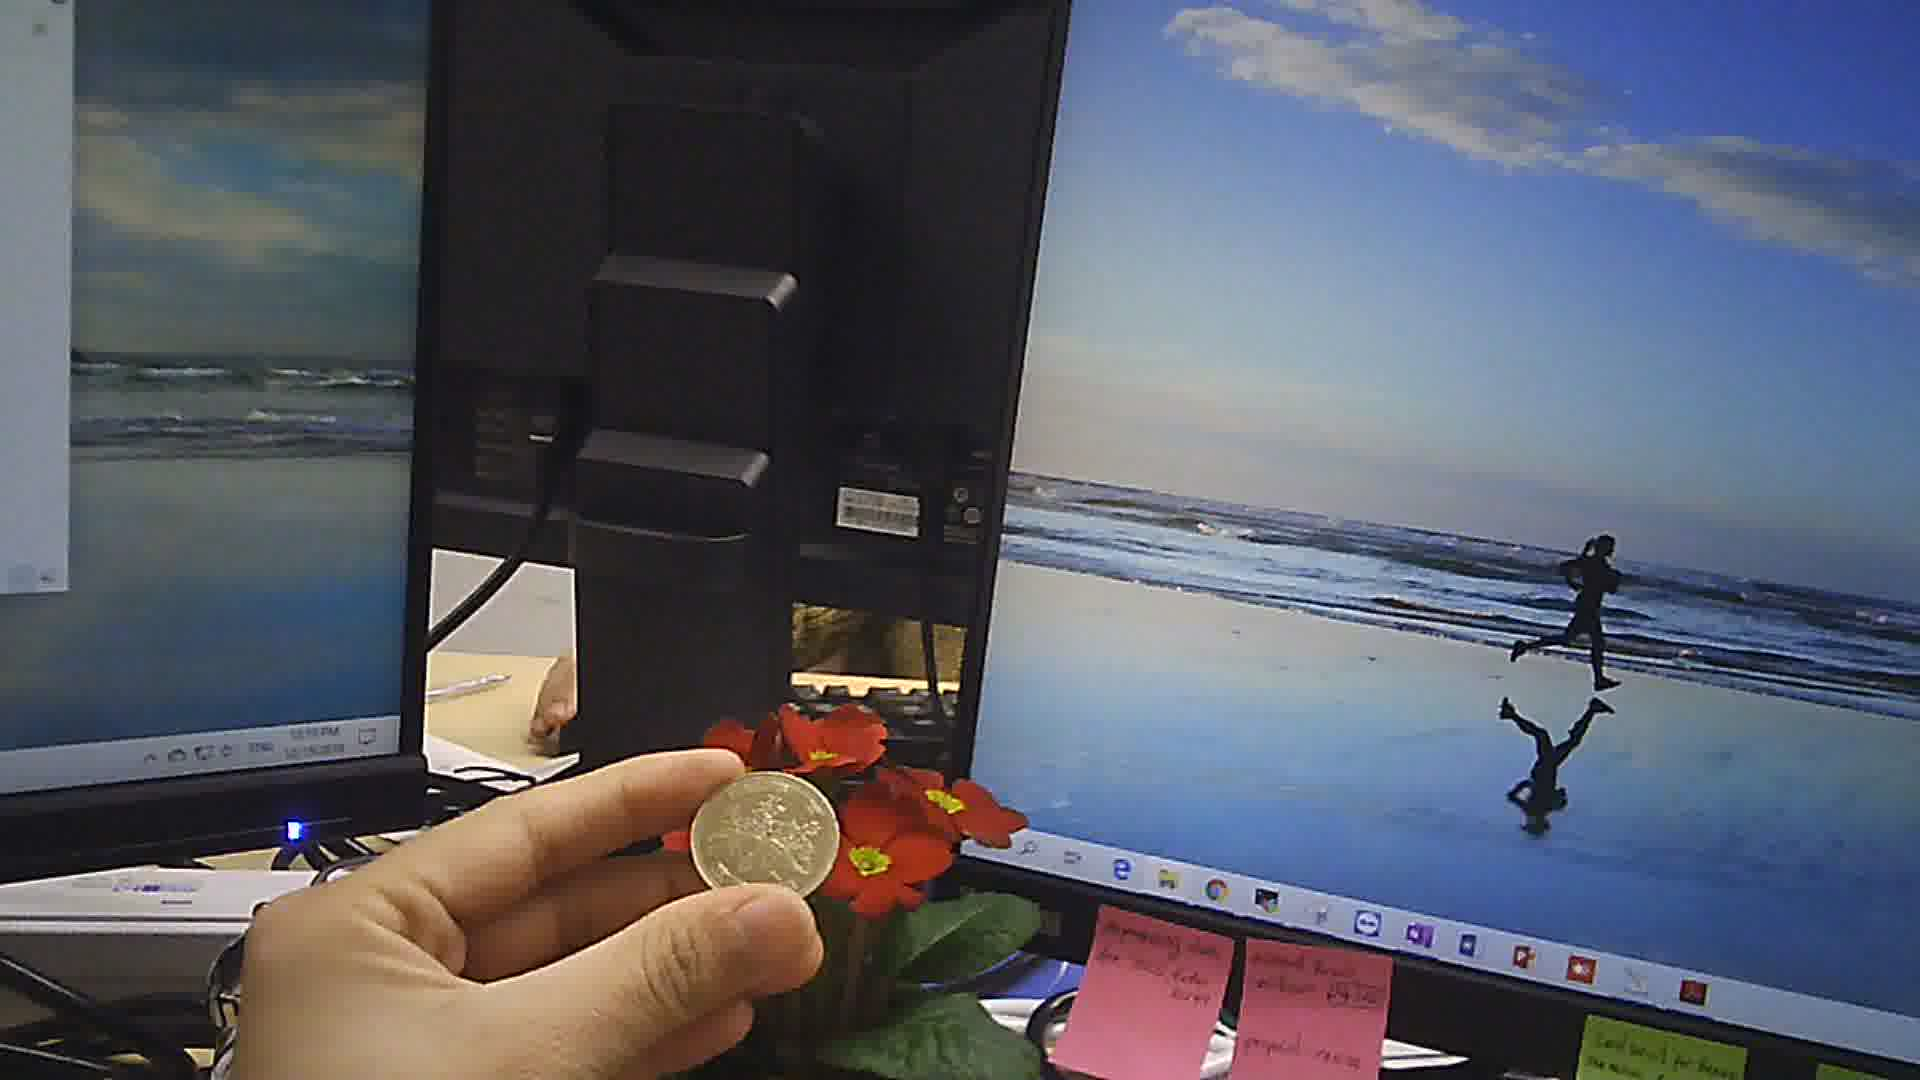500 Yen: (684, 761, 841, 907)
